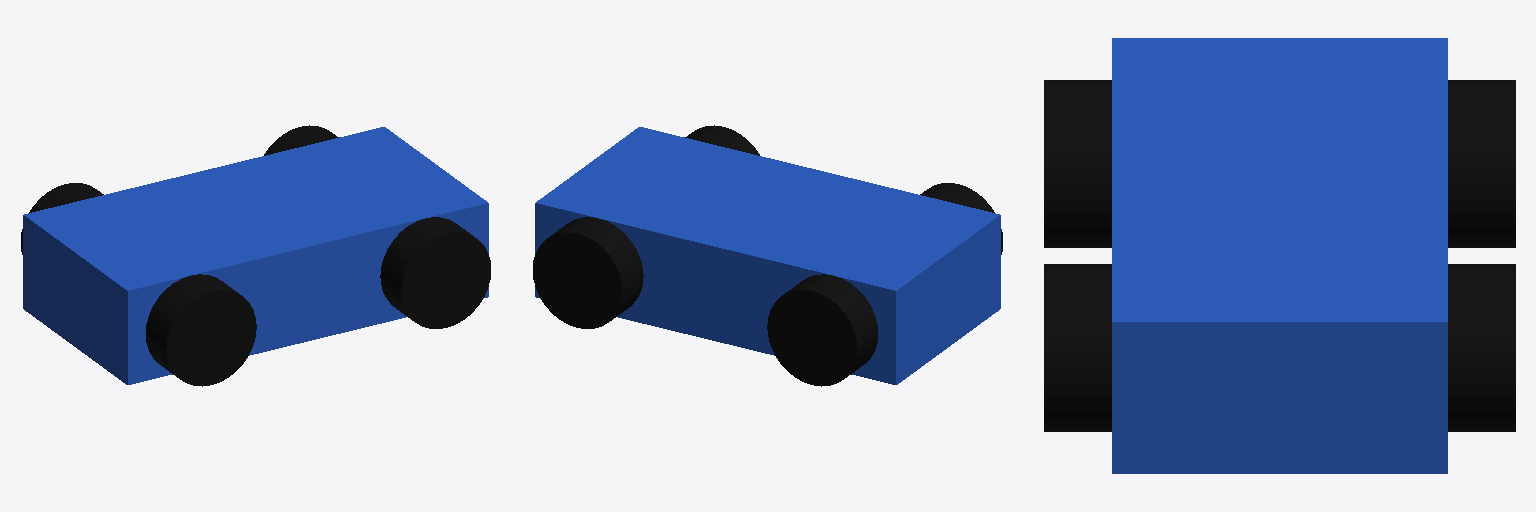
The robot description file, URDF, robot "four_wheel_bot":
<?xml version="1.0"?>
<robot name="four_wheel_bot">
  <material name="blue"><color rgba="0.2 0.4 0.8 1"/></material>
  <material name="black"><color rgba="0.1 0.1 0.1 1"/></material>

  <link name="base_link">
    <visual>
      <geometry><box size="0.4 0.2 0.1"/></geometry>
      <material name="blue"/>
    </visual>
  </link>

  <!-- Front left -->
  <link name="front_left_wheel">
    <visual>
      <origin rpy="1.5708 0 0"/>
      <geometry><cylinder radius="0.05" length="0.04"/></geometry>
      <material name="black"/>
    </visual>
  </link>
  <joint name="front_left_wheel_joint" type="continuous">
    <parent link="base_link"/><child link="front_left_wheel"/>
    <origin xyz="0.13 0.12 0"/><axis xyz="0 1 0"/>
  </joint>

  <!-- Rear left -->
  <link name="rear_left_wheel">
    <visual>
      <origin rpy="1.5708 0 0"/>
      <geometry><cylinder radius="0.05" length="0.04"/></geometry>
      <material name="black"/>
    </visual>
  </link>
  <joint name="rear_left_wheel_joint" type="continuous">
    <parent link="base_link"/><child link="rear_left_wheel"/>
    <origin xyz="-0.13 0.12 0"/><axis xyz="0 1 0"/>
  </joint>

  <!-- Front right -->
  <link name="front_right_wheel">
    <visual>
      <origin rpy="1.5708 0 0"/>
      <geometry><cylinder radius="0.05" length="0.04"/></geometry>
      <material name="black"/>
    </visual>
  </link>
  <joint name="front_right_wheel_joint" type="continuous">
    <parent link="base_link"/><child link="front_right_wheel"/>
    <origin xyz="0.13 -0.12 0"/><axis xyz="0 1 0"/>
  </joint>

  <!-- Rear right -->
  <link name="rear_right_wheel">
    <visual>
      <origin rpy="1.5708 0 0"/>
      <geometry><cylinder radius="0.05" length="0.04"/></geometry>
      <material name="black"/>
    </visual>
  </link>
  <joint name="rear_right_wheel_joint" type="continuous">
    <parent link="base_link"/><child link="rear_right_wheel"/>
    <origin xyz="-0.13 -0.12 0"/><axis xyz="0 1 0"/>
  </joint>
</robot>

--- What the picture shows (computed from the rendered views, not written in the file) ---
The picture shows the robot from 3 angles, left to right: view 1: azimuth 30°, elevation 25°; view 2: azimuth 150°, elevation 25°; view 3: azimuth 270°, elevation 25°; orthographic projection.
Robot: four_wheel_bot — 5 links, 4 joints (4 continuous); root link base_link; default pose: all joints at 0.
Links seen in each view (by area): view 1: base_link, rear_right_wheel, front_right_wheel, rear_left_wheel, front_left_wheel; view 2: base_link, rear_left_wheel, front_left_wheel, rear_right_wheel, front_right_wheel; view 3: base_link, front_left_wheel, rear_left_wheel, front_right_wheel, rear_right_wheel.
Boxes of the visible links, <box> form: base_link: <box>23,127,488,384</box>; rear_right_wheel: <box>146,274,256,386</box>; front_right_wheel: <box>380,217,490,328</box>; rear_left_wheel: <box>21,183,103,254</box>; front_left_wheel: <box>264,125,338,155</box>; base_link: <box>535,127,1000,384</box>; rear_left_wheel: <box>767,274,877,386</box>; front_left_wheel: <box>533,217,643,328</box>; rear_right_wheel: <box>920,183,1002,254</box>; front_right_wheel: <box>685,125,759,155</box>; base_link: <box>1112,38,1447,473</box>; front_left_wheel: <box>1448,264,1515,431</box>; rear_left_wheel: <box>1448,80,1515,247</box>; front_right_wheel: <box>1044,264,1111,431</box>; rear_right_wheel: <box>1044,80,1111,247</box>.
Size in the robot's own frame: 0.4 by 0.28 by 0.1 metres.
Geometry: primitives only (box / cylinder / sphere), no mesh files.
